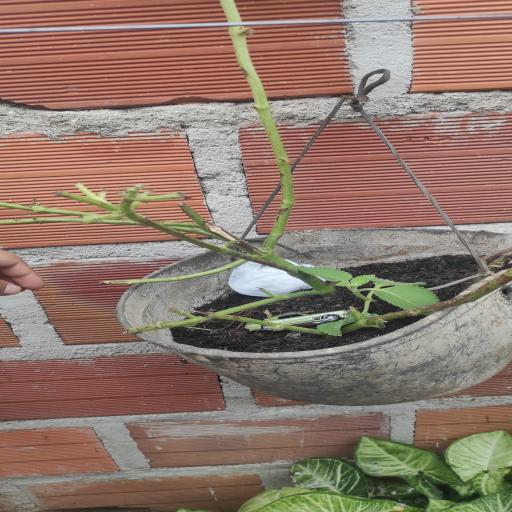Carrito: (267, 310, 349, 327), (245, 323, 270, 331)
